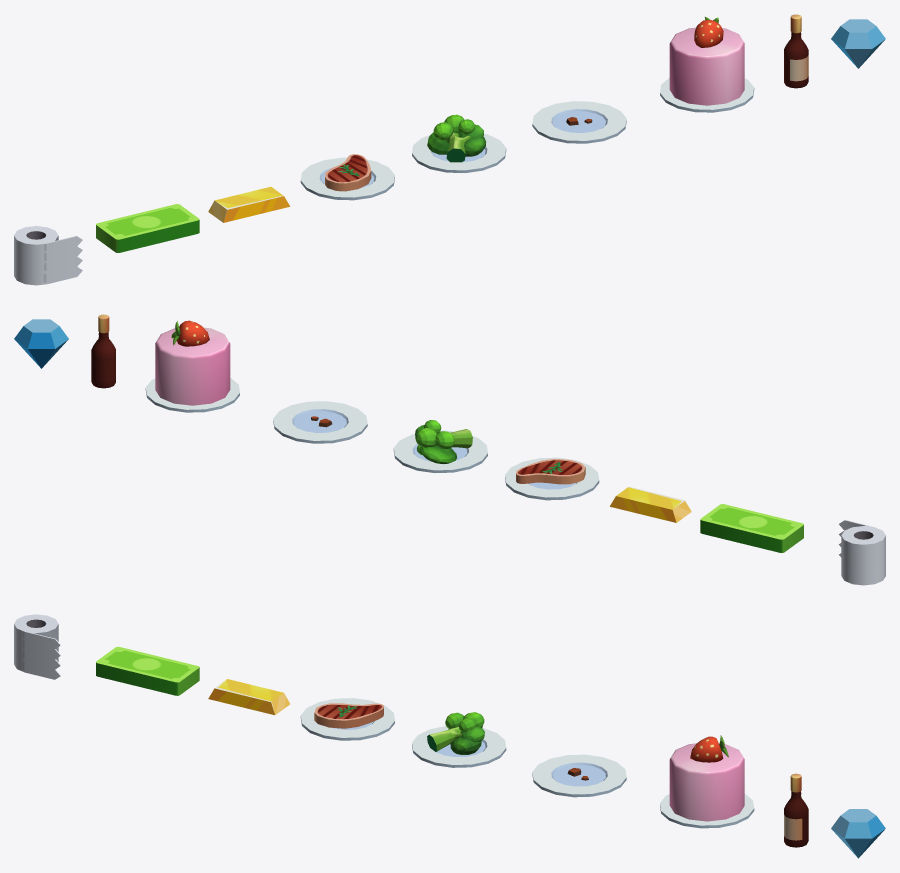
3 views of the same model, one above another, from view 1: azimuth 30°, elevation 25°; view 2: azimuth 150°, elevation 25°; view 3: azimuth 330°, elevation 25° (orthographic).
Parts seen in each view (by area): view 1: banh, giay, thit bo, dola, dia ban, Sphere, rau, gold, Cylinder, chai ruou; view 2: banh, dola, dia ban, thit bo, giay, rau, gold, Sphere, Cylinder, chai ruou; view 3: banh, dola, thit bo, dia ban, giay, rau, Sphere, gold, Cylinder, chai ruou.
Boxes of the visible parts, x1,y1,x2,y2 form: banh: (660, 17, 754, 112); giay: (14, 226, 82, 285); thit bo: (300, 154, 394, 200); dola: (96, 204, 199, 252); dia ban: (532, 101, 626, 143); Sphere: (427, 114, 486, 162); rau: (412, 133, 506, 172); gold: (208, 186, 289, 222); Cylinder: (831, 19, 885, 68); chai ruou: (784, 14, 808, 88); banh: (145, 320, 239, 412); dola: (700, 504, 803, 552); dia ban: (273, 401, 367, 443); thit bo: (505, 457, 599, 500); giay: (839, 520, 885, 585); rau: (393, 430, 487, 472); gold: (610, 486, 691, 522); Sphere: (415, 420, 472, 464); Cylinder: (14, 319, 68, 368); chai ruou: (91, 314, 115, 388); banh: (660, 735, 754, 828); dola: (96, 646, 199, 695); thit bo: (300, 698, 394, 740); dia ban: (532, 754, 626, 797); giay: (14, 614, 60, 679); rau: (412, 726, 506, 767); Sphere: (427, 712, 484, 754); gold: (208, 679, 289, 715); Cylinder: (831, 809, 885, 858); chai ruou: (784, 773, 808, 847).
Bounding box in the file's own units: 4463 × 447 × 427.
1 material, 1 textured.
